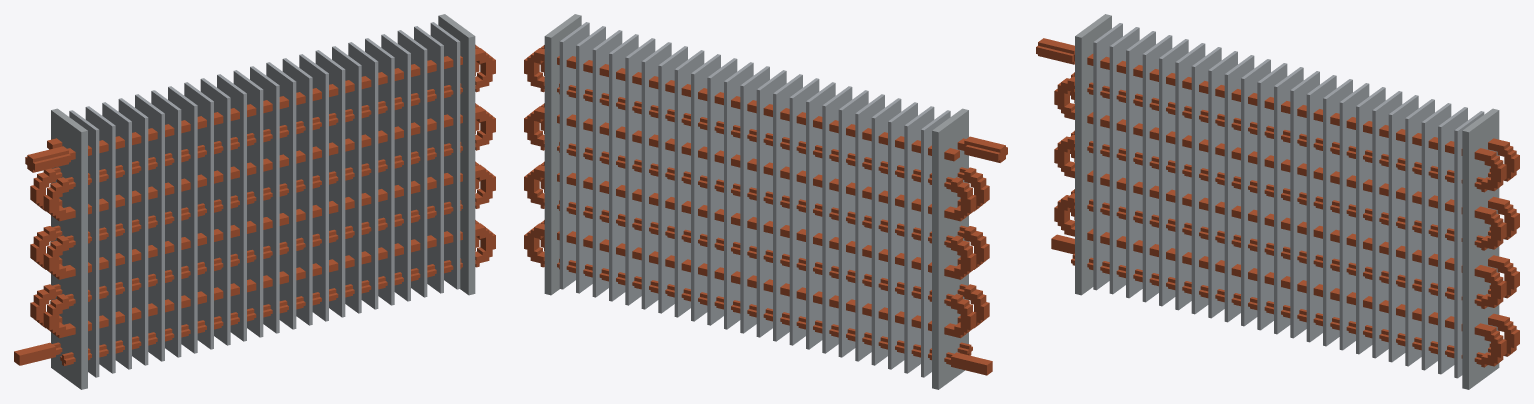
Rendered from evaporator_coil.glb.
3 views of the same model, side by side, from view 1: azimuth 30°, elevation 25°; view 2: azimuth 150°, elevation 25°; view 3: azimuth 330°, elevation 25° (orthographic).
Parts seen in each view (by area): view 1: evaporator_coil:compound; view 2: evaporator_coil:compound; view 3: evaporator_coil:compound.
Boxes of the visible parts, x1,y1,x2,y2 form: evaporator_coil:compound: (14, 14, 495, 389); evaporator_coil:compound: (524, 14, 1007, 389); evaporator_coil:compound: (1036, 14, 1519, 389).
Size of the model in its own units: 0.564 by 0.3 by 0.064.
